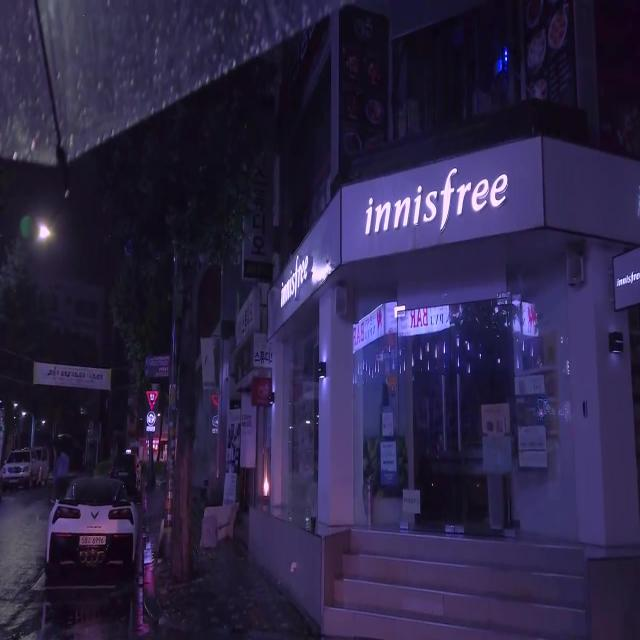Car: (45, 478, 134, 579)
